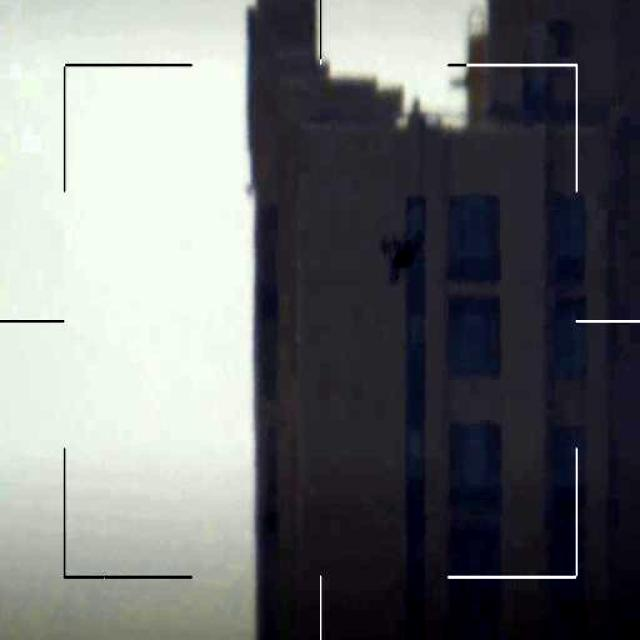bird: (374, 219, 428, 288)
